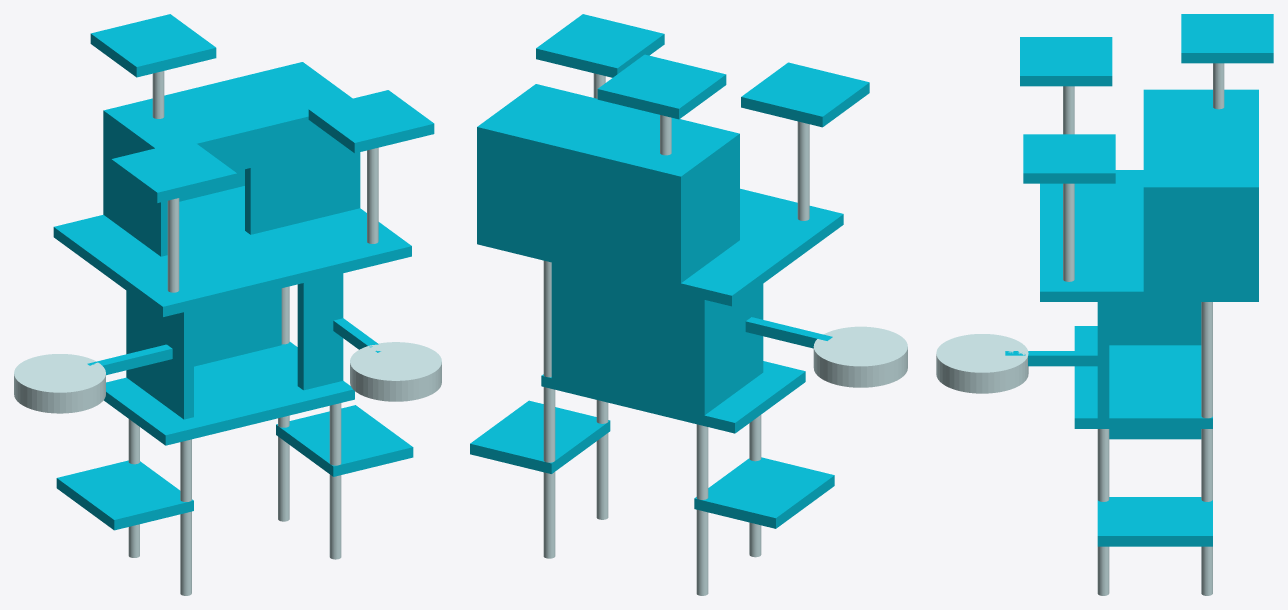
Rendered from Cat Tree.glb.
3 views of the same model, side by side, from view 1: azimuth 30°, elevation 25°; view 2: azimuth 150°, elevation 25°; view 3: azimuth 270°, elevation 25° (orthographic). The views are drawn at different scales.
Visible parts, largest first — view 1: Surface 5, Surface 3, Wall 4, Surface 8, Surface 2, Wall 3, Wall 2, Surface 1, Wall 5, Surface 7, Surface 9, Surface 6 (+14 smaller); view 2: Wall 7, Wall 2, Surface 8, Surface 5, Wall 5, Wall 3, Surface 2, Surface 1, Surface 9, Surface 6, Surface 7, Cushion 1 (+9 smaller); view 3: Surface 5, Wall 8, Surface 8, Surface 3, Surface 1, Cushion 2, Surface 7, Surface 9, Surface 6, Wall 3, Scratch Post 4, Wall 7 (+9 smaller).
Part boxes in pixels (x1=…): Surface 5: x1=53, y1=186, x2=411, y2=316; Surface 3: x1=103, y1=342, x2=354, y2=445; Wall 4: x1=245, y1=111, x2=360, y2=234; Surface 8: x1=103, y1=62, x2=352, y2=149; Surface 2: x1=56, y1=460, x2=193, y2=530; Wall 3: x1=126, y1=291, x2=193, y2=419; Wall 2: x1=126, y1=288, x2=281, y2=379; Surface 1: x1=276, y1=405, x2=413, y2=476; Wall 5: x1=103, y1=108, x2=167, y2=256; Surface 7: x1=308, y1=90, x2=434, y2=153; Surface 9: x1=90, y1=14, x2=216, y2=77; Surface 6: x1=111, y1=139, x2=236, y2=202; Wall 7: x1=477, y1=123, x2=686, y2=282; Wall 2: x1=551, y1=262, x2=710, y2=425; Surface 8: x1=477, y1=89, x2=731, y2=184; Surface 5: x1=477, y1=188, x2=843, y2=306; Wall 5: x1=670, y1=131, x2=739, y2=283; Wall 3: x1=694, y1=284, x2=763, y2=425; Surface 2: x1=694, y1=457, x2=834, y2=528; Surface 1: x1=470, y1=400, x2=610, y2=473; Surface 9: x1=597, y1=54, x2=726, y2=119; Surface 6: x1=741, y1=62, x2=869, y2=127; Surface 7: x1=536, y1=14, x2=664, y2=77; Cushion 1: x1=813, y1=326, x2=907, y2=387; Surface 5: x1=1040, y1=170, x2=1258, y2=301; Wall 8: x1=1143, y1=182, x2=1258, y2=291; Surface 8: x1=1155, y1=89, x2=1258, y2=194; Surface 3: x1=1074, y1=326, x2=1212, y2=428; Surface 1: x1=1097, y1=497, x2=1212, y2=546; Cushion 2: x1=936, y1=334, x2=1028, y2=393; Surface 7: x1=1023, y1=134, x2=1115, y2=183; Surface 9: x1=1181, y1=14, x2=1273, y2=63; Surface 6: x1=1020, y1=37, x2=1112, y2=86; Wall 3: x1=1109, y1=302, x2=1201, y2=345; Scratch Post 4: x1=1201, y1=302, x2=1212, y2=595; Wall 7: x1=1247, y1=89, x2=1258, y2=291.
Bounding box in the file's own units: 121 × 152 × 92.93.
